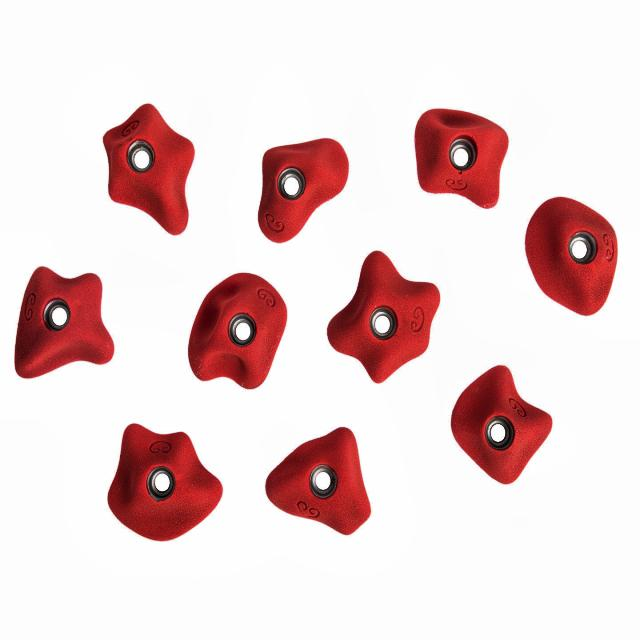Hold: (323, 248, 440, 385), (105, 422, 225, 542), (102, 97, 196, 236), (262, 424, 376, 538), (452, 360, 552, 487), (186, 270, 288, 388), (14, 264, 114, 380), (525, 193, 616, 320), (254, 134, 349, 243), (416, 106, 509, 211)
